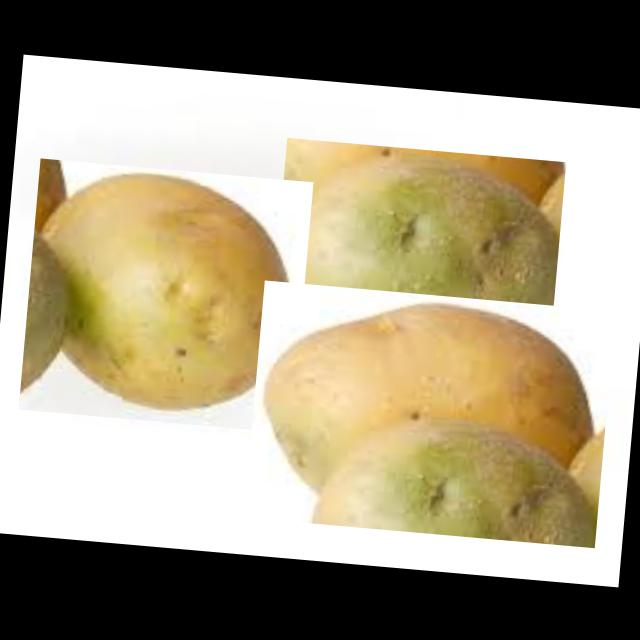Defected potato: (243, 279, 614, 547), (263, 137, 565, 426), (17, 156, 312, 432)
